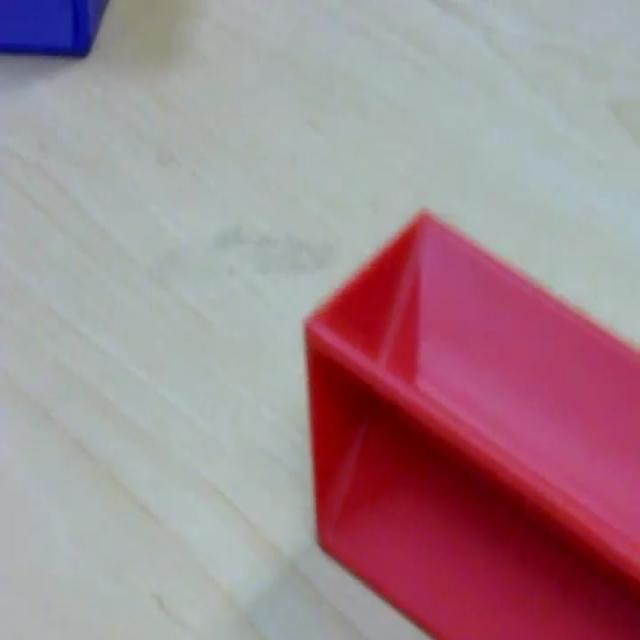red_block: (302, 205, 638, 636)
